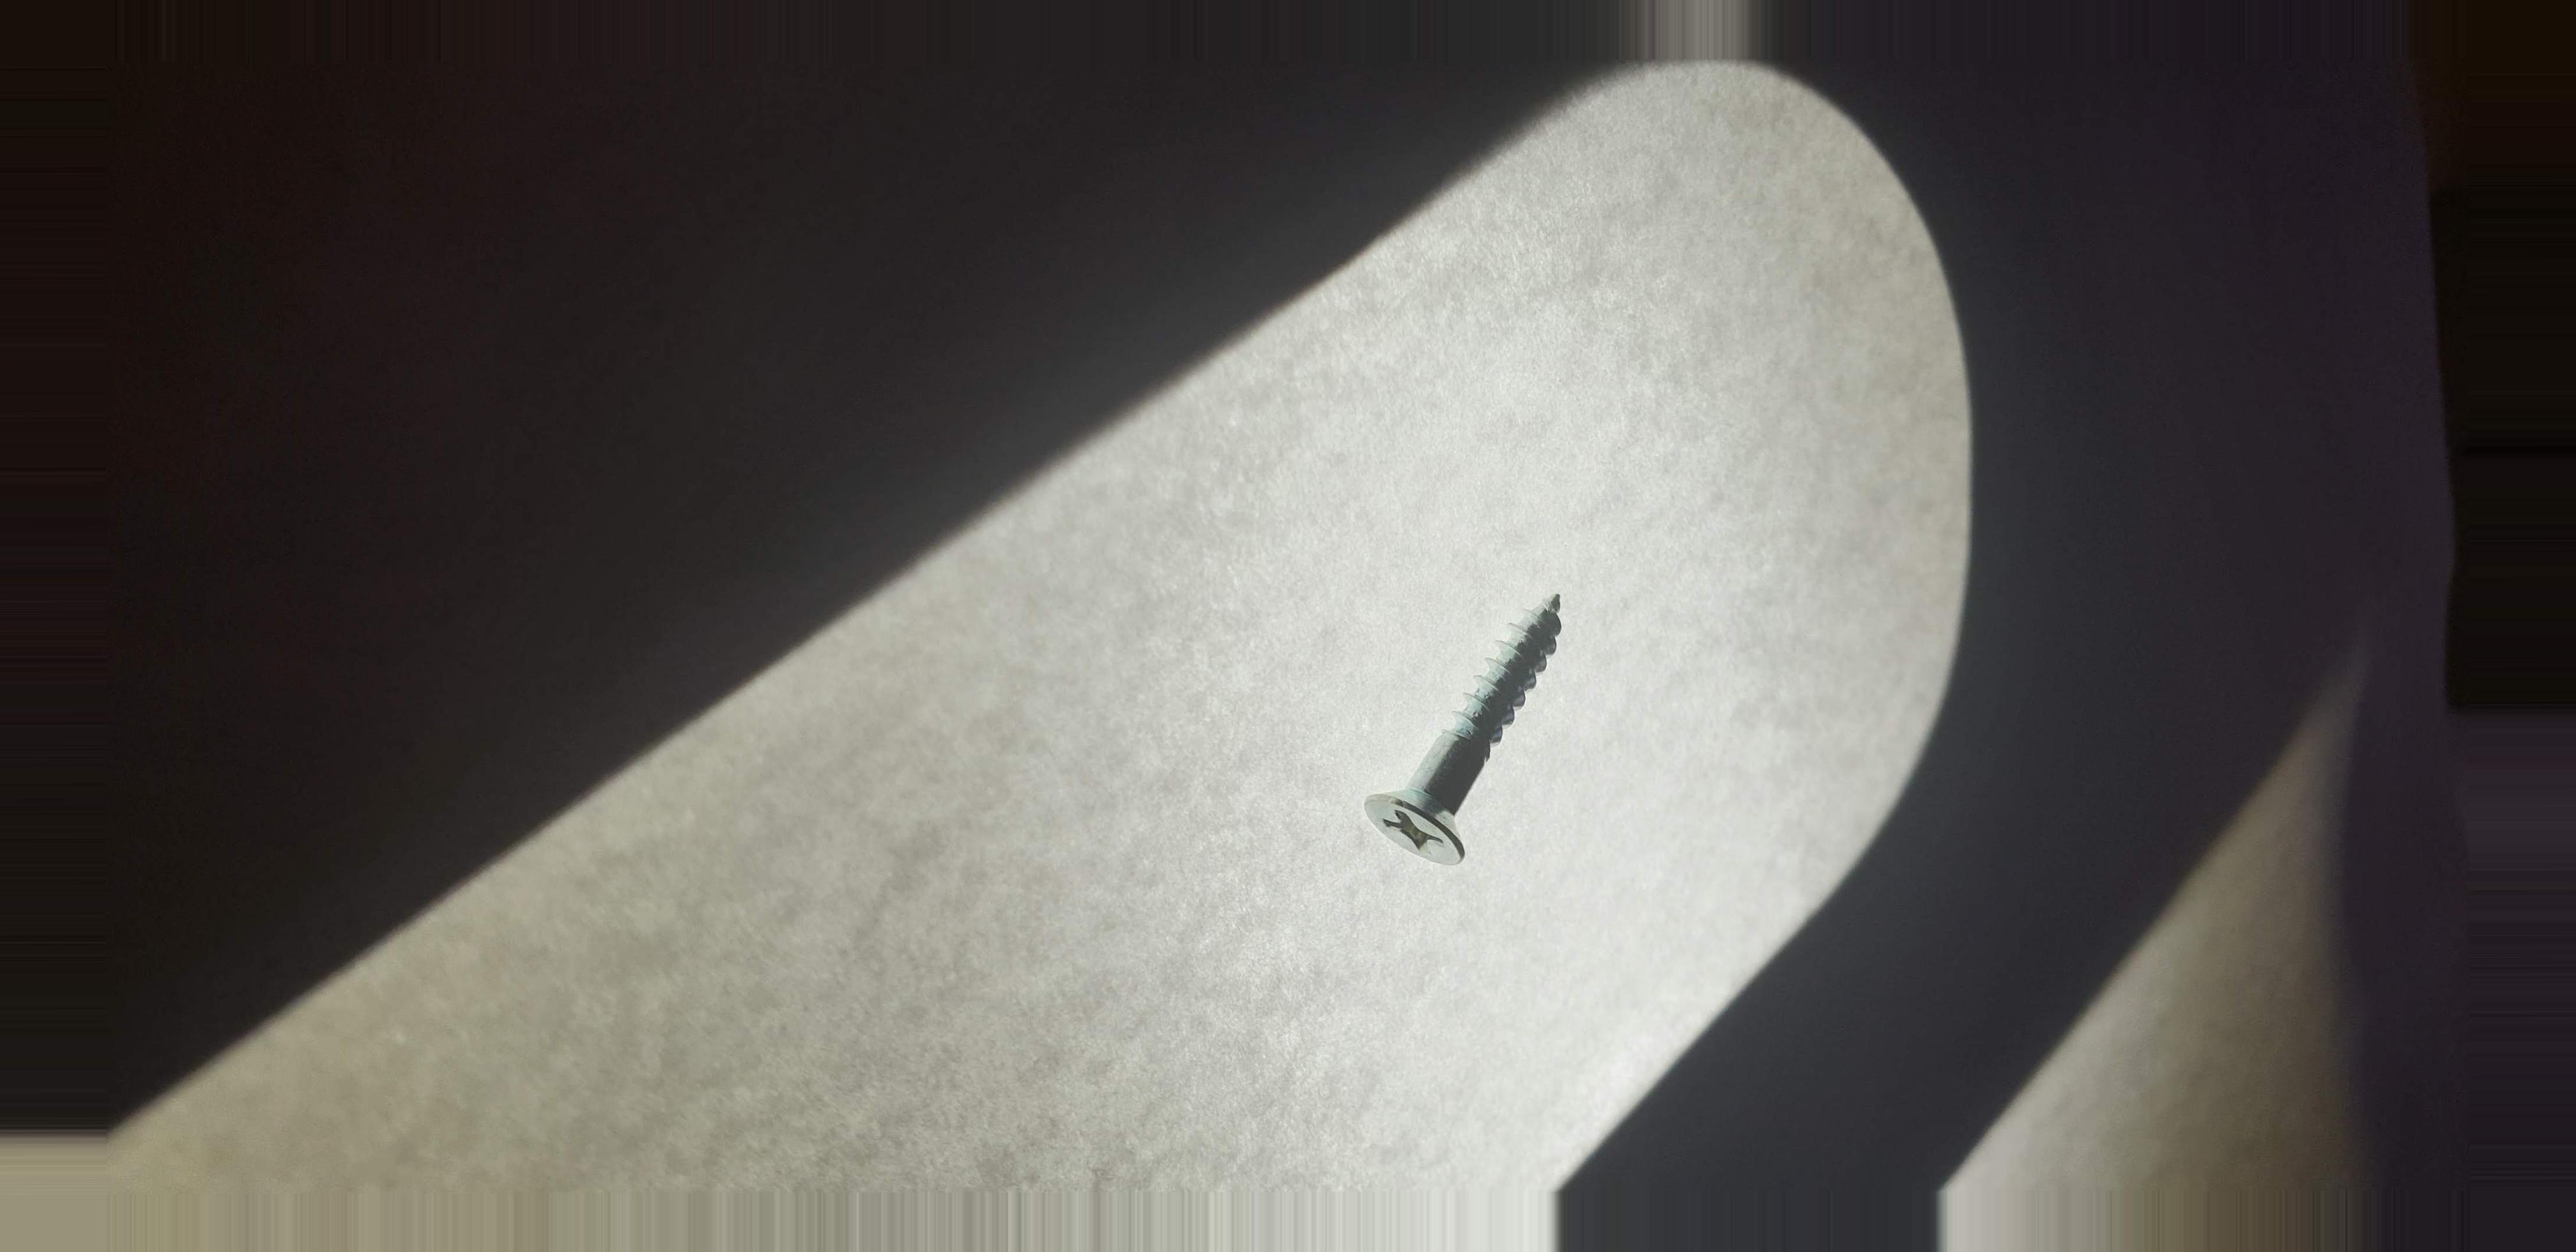S005: (1316, 559, 1628, 904)
